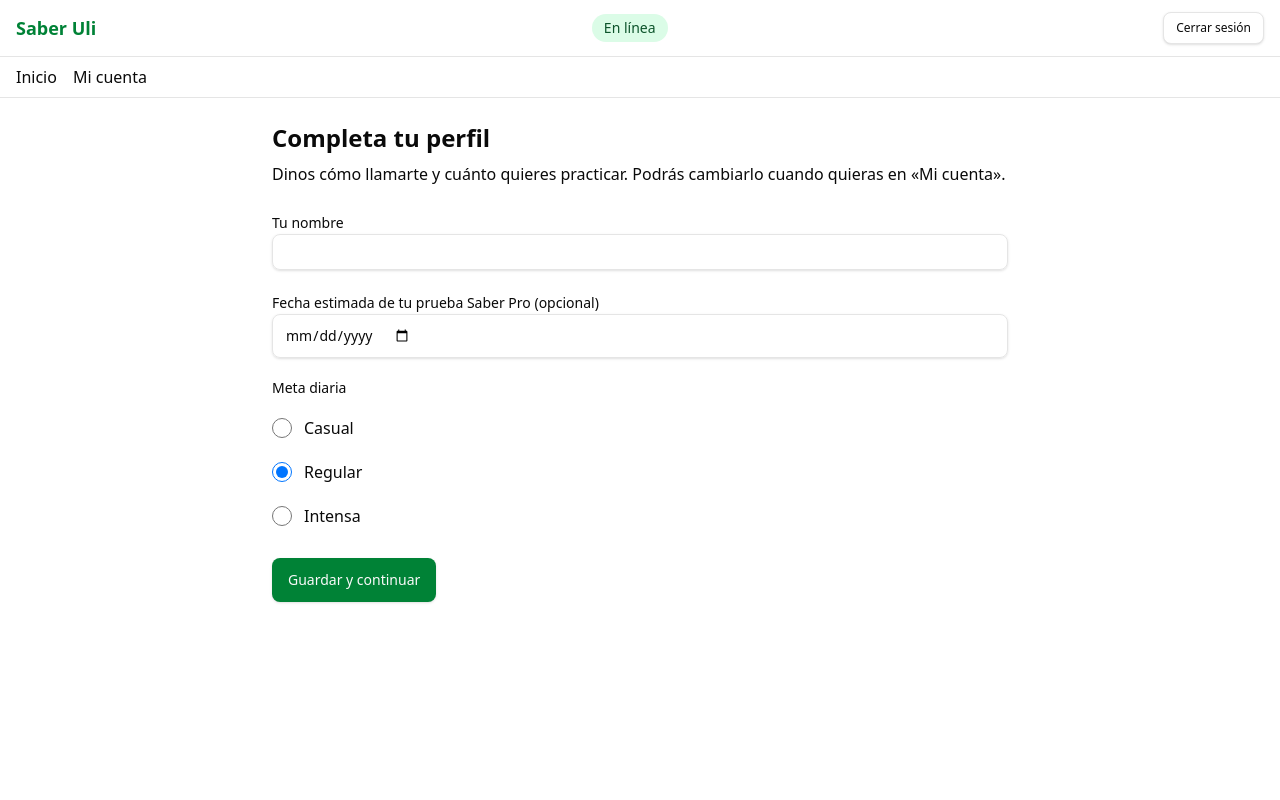
Test: perfil del primer ingreso: invitado › guarda solo nombre y meta cuando no indica fecha
The width and height of the screenshot is (1280, 800).
Type "Laura Gómez" into the field labelled "Tu nombre" at (640, 252), box top-left (272, 234), bottom-right (1008, 270)
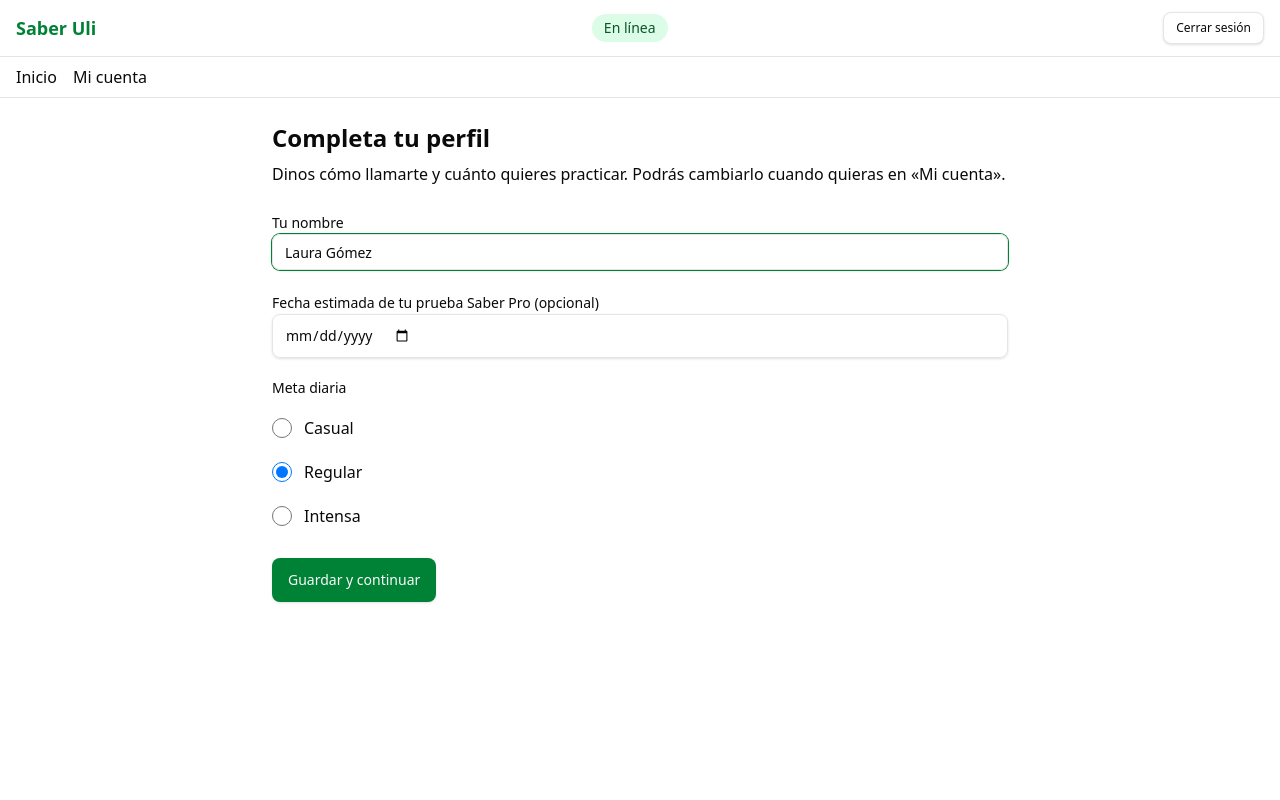
Click the button "Guardar y continuar" at (354, 580), box top-left (272, 558), bottom-right (436, 602)
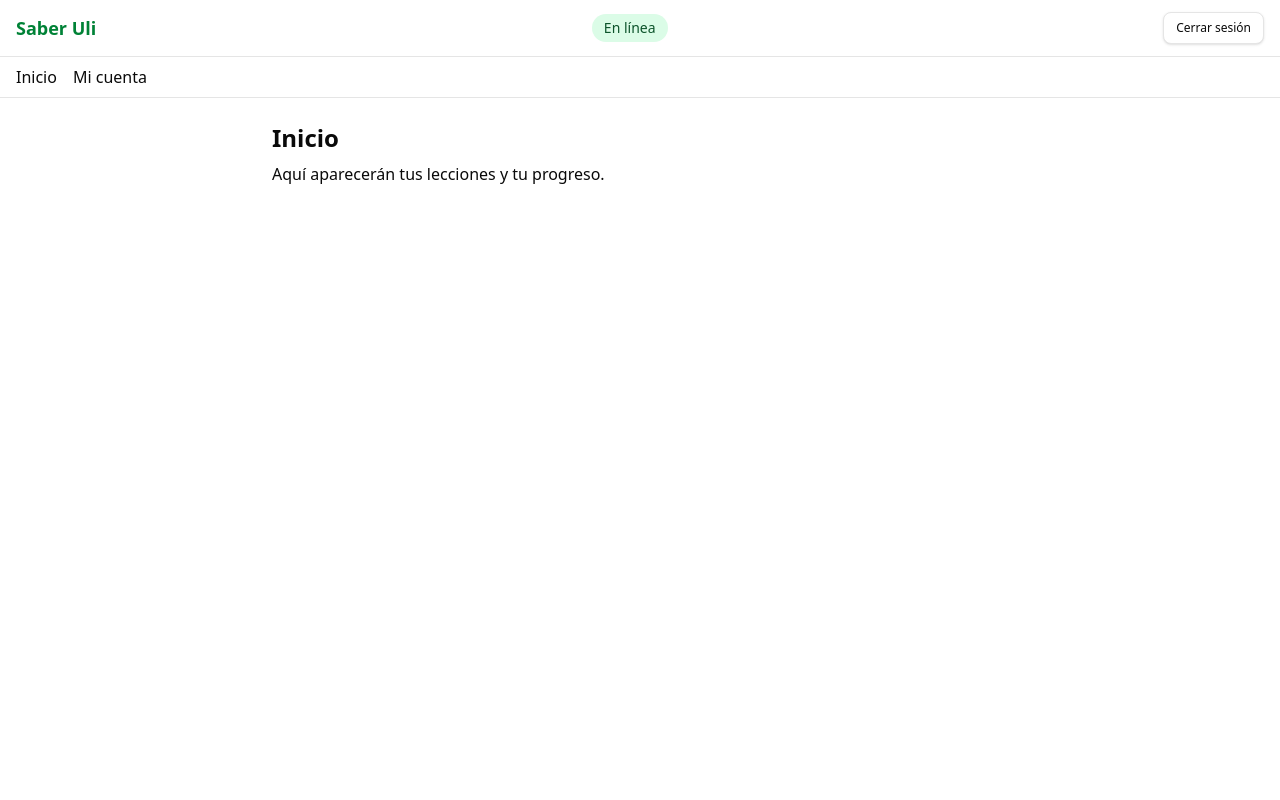
Now the heading "Inicio" is shown, box top-left (272, 121), bottom-right (339, 154)
